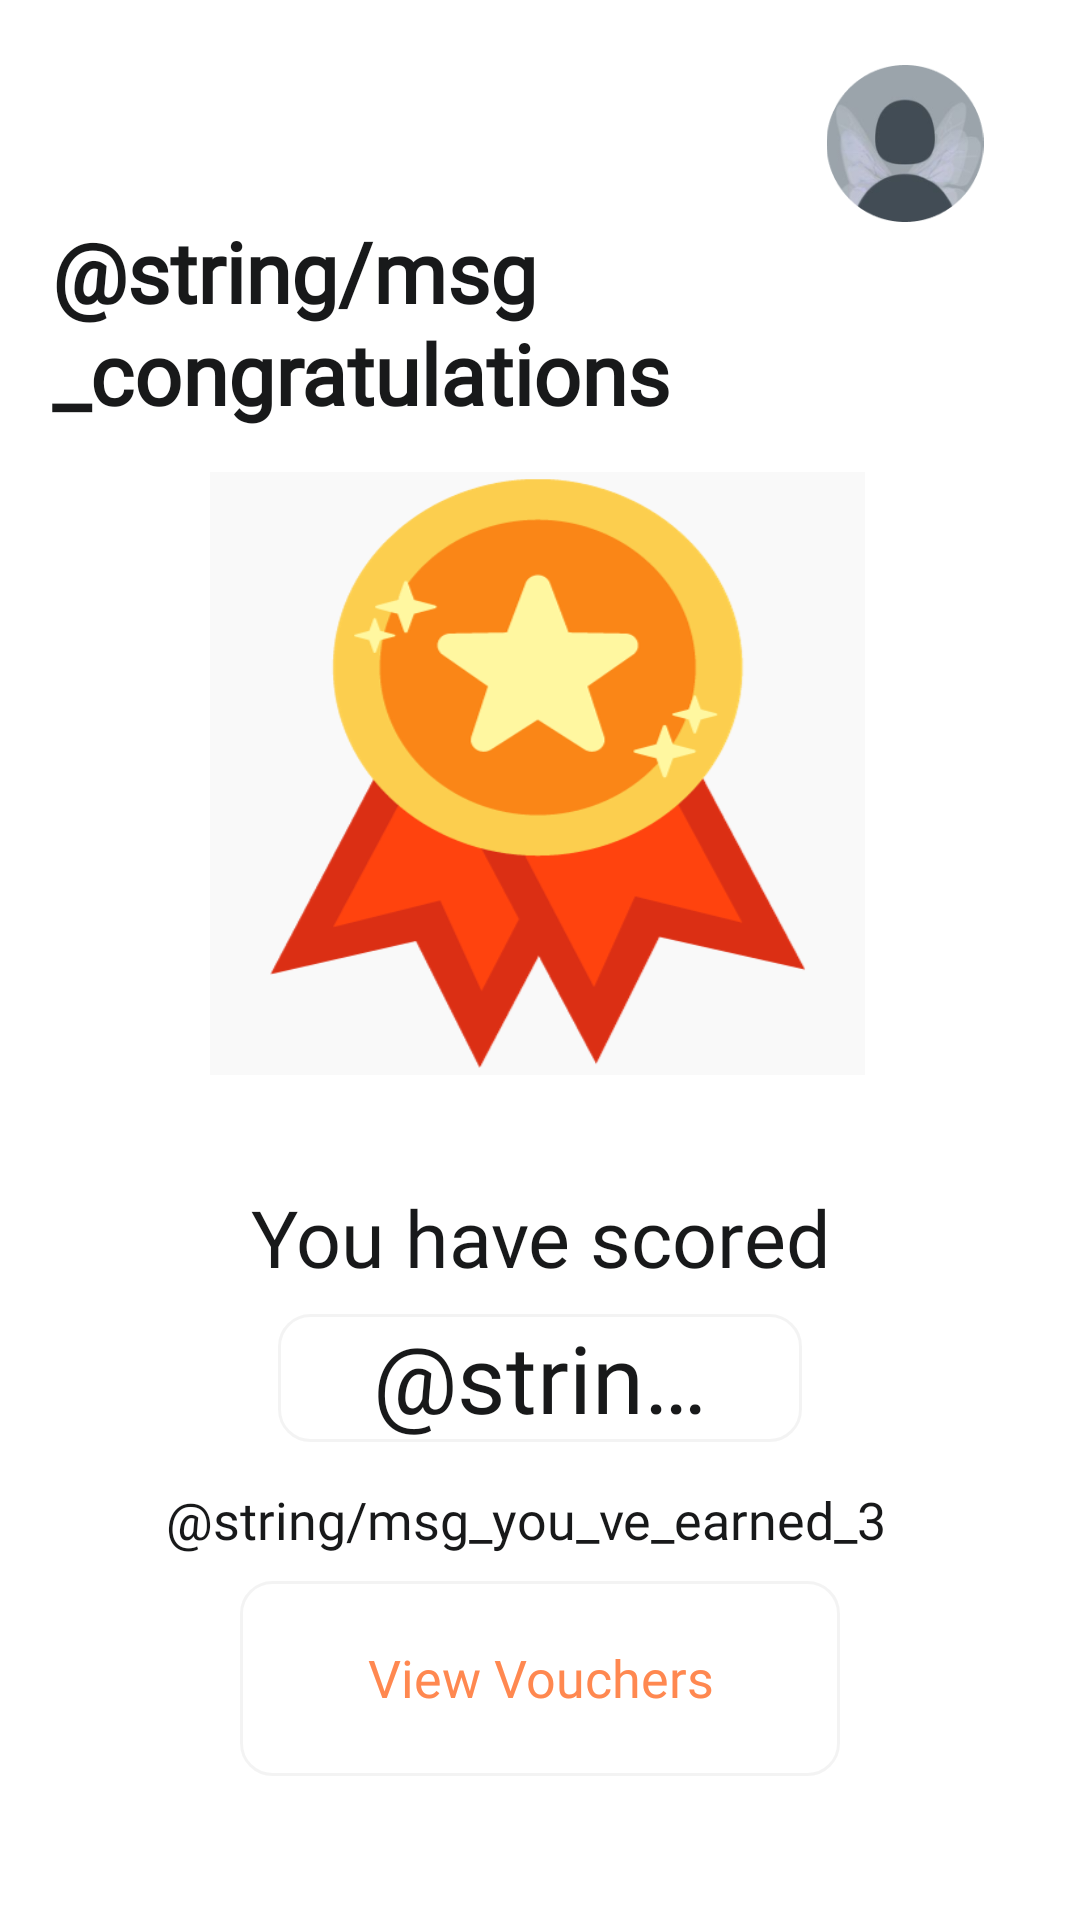

Named icons in this screenshot (1080w x 1920h) and their centers, point (x, y):
profilepic: point (905, 143)
